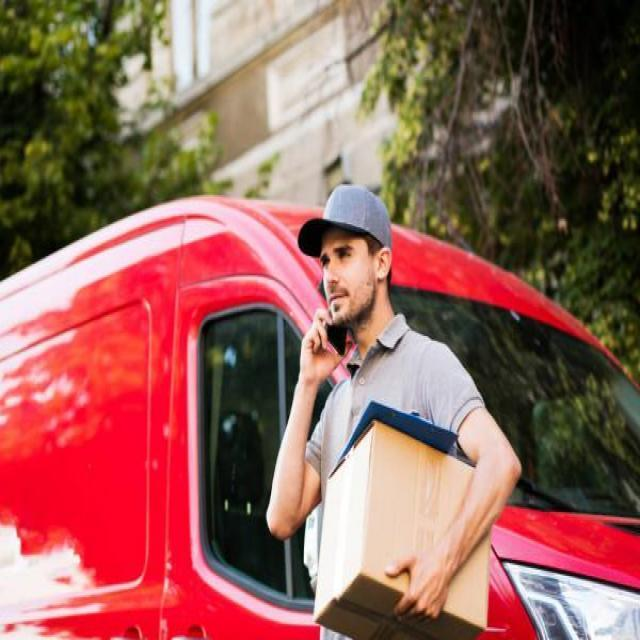box: (306, 425, 496, 640)
